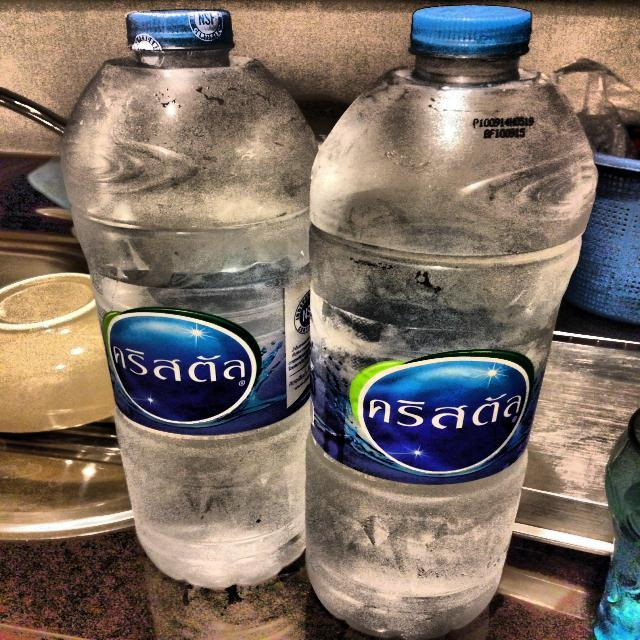Bottles: (301, 0, 613, 640), (55, 7, 340, 595)
